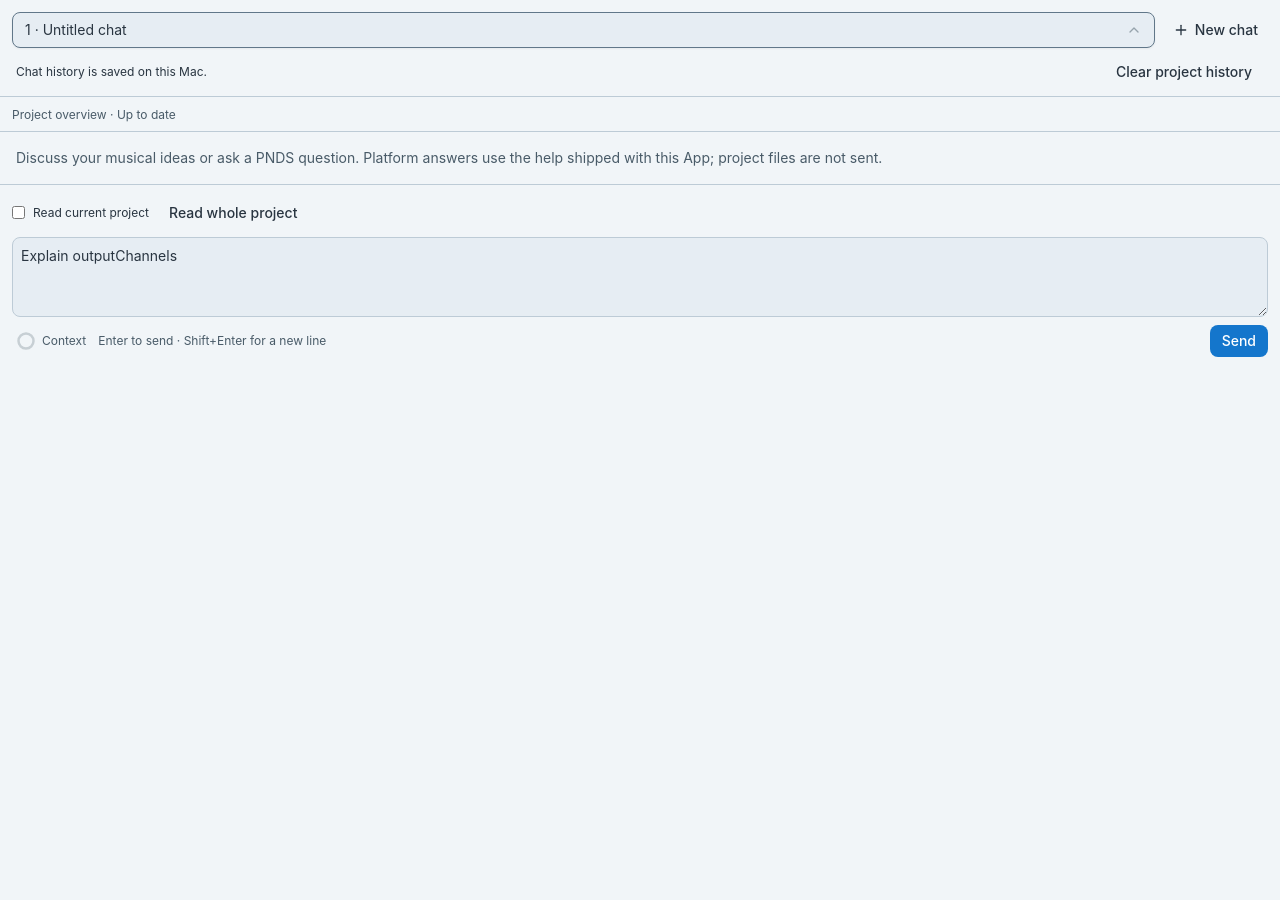
Test: context and usage through the discussion (#233) › keeps unknown usage when neither a selected nor a reference estimate is available
This screenshot has width=1280, height=900.
Click the button with aria-label "Context: Token usage unknown" at (51, 341), box [12, 325, 90, 357]
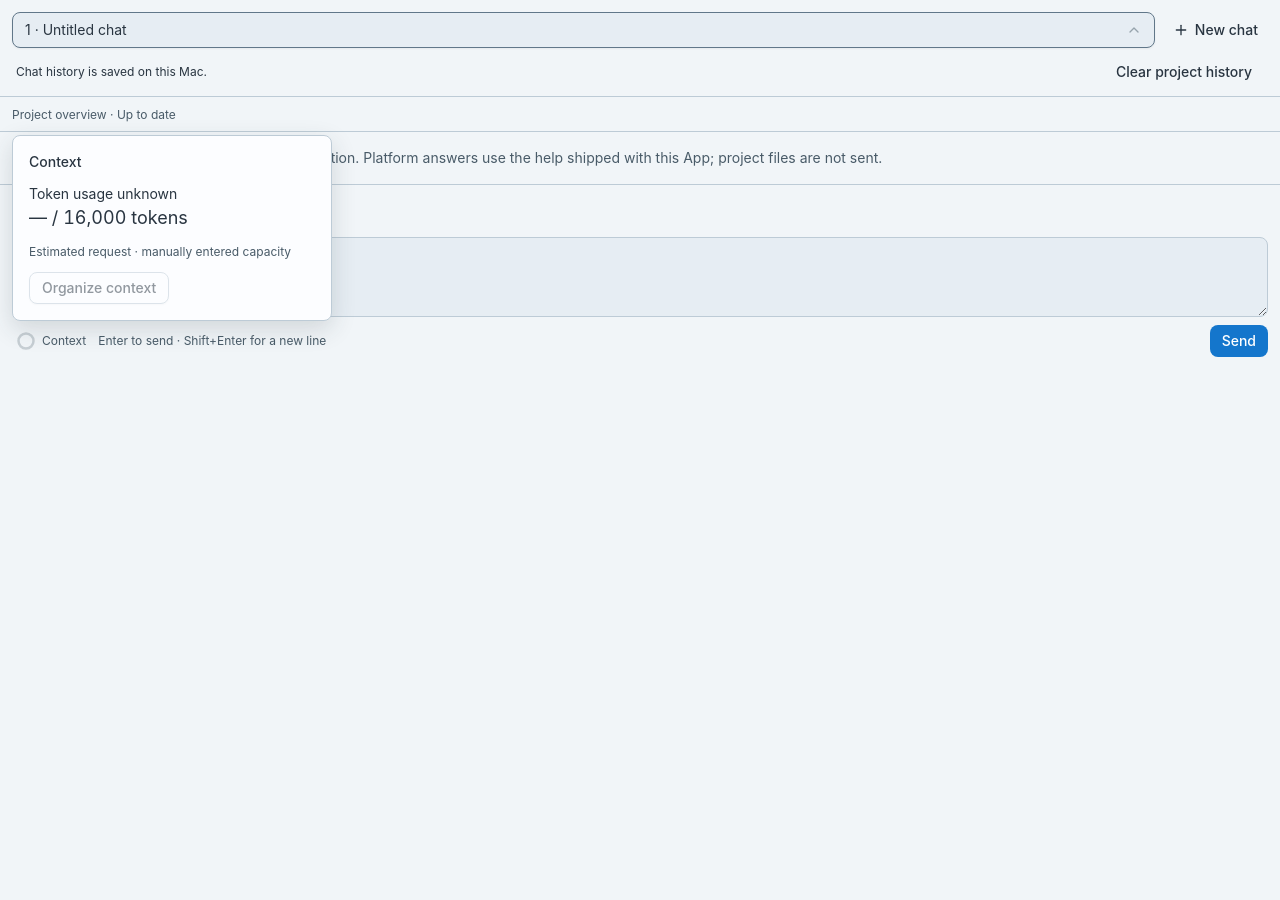
Check: the text "Token usage unknown — / 16,000 tokens" is shown, box [29, 185, 188, 228]
